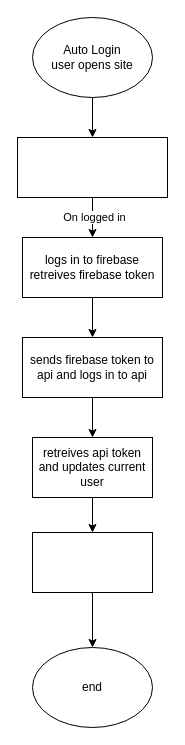
Image size: 185x745. Some labels were removed from this diagram. Here are the shapes that lost their labels. From the top down, the centre of each, then its label:
At [92,167]: "AutoLogin (component) listens for firebase state change".
At [92,562]: "refreshes axios cache".
